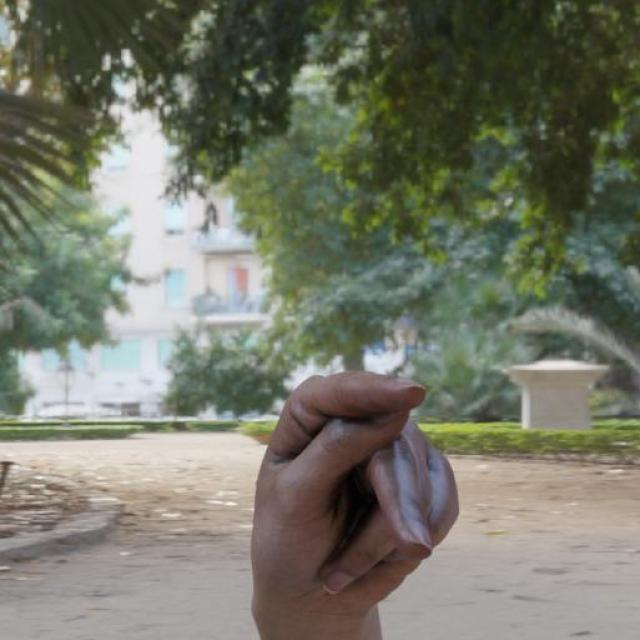P: (249, 368, 462, 610)
